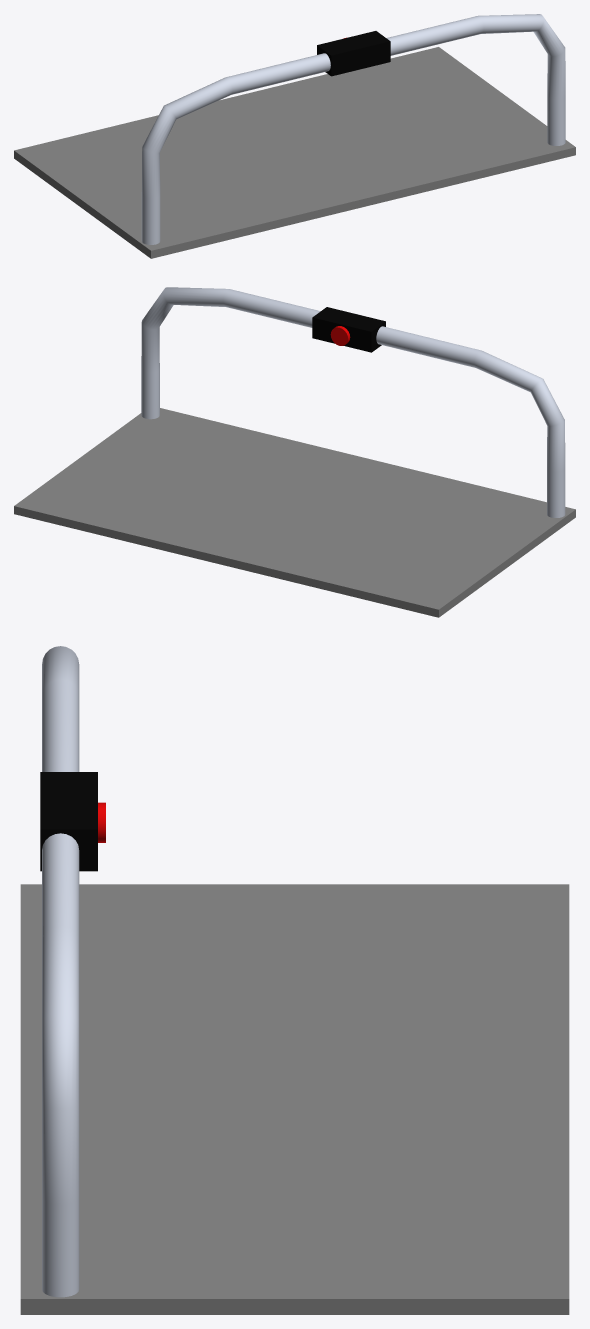
File: elevator.fbx
The picture shows the model from 3 angles, top to bottom: view 1: azimuth 30°, elevation 25°; view 2: azimuth 150°, elevation 25°; view 3: azimuth 270°, elevation 25°; orthographic projection. The views are drawn at different scales.
Visible parts, largest first — view 1: pCube31, pCylinder2, pCylinder1, pCube32; view 2: pCube31, pCylinder2, pCylinder1, pCube32; view 3: pCube31, pCylinder1, pCylinder2, pCube32.
Part boxes in pixels (box(x1,y1,x2,y2)): pCube31: box(14, 47, 575, 258); pCylinder2: box(141, 53, 330, 244); pCylinder1: box(386, 14, 565, 145); pCube32: box(317, 31, 390, 76); pCube31: box(14, 408, 575, 617); pCylinder2: box(376, 326, 565, 517); pCylinder1: box(141, 287, 320, 419); pCube32: box(312, 307, 385, 352); pCube31: box(20, 884, 569, 1314); pCylinder1: box(42, 833, 79, 1297); pCylinder2: box(42, 646, 79, 771); pCube32: box(40, 772, 97, 871).
Size of the model in its own units: 17.43 by 6.06 by 9.75.
